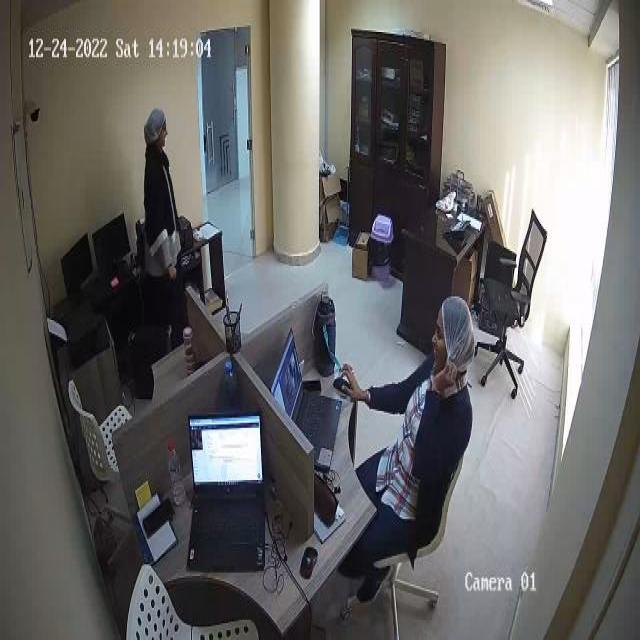hairnet: (441, 296, 474, 372), (143, 108, 165, 146)
